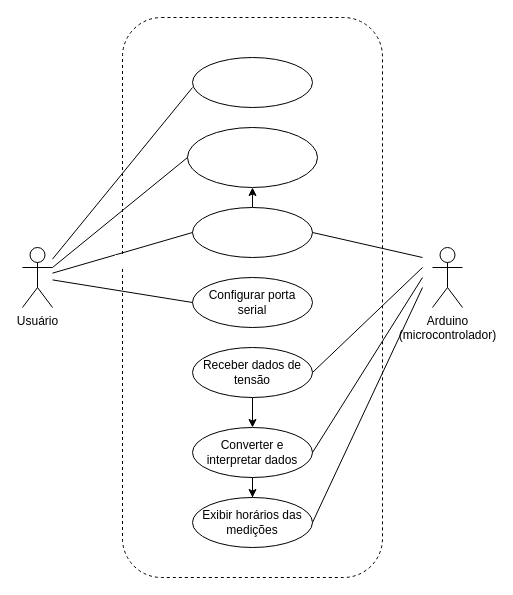
Some shapes in this 513 by 595 pixel diagram are drawn without their labels. Here are the shapes that lost their labels. From the top down, the box of each, then its label:
(192, 56, 312, 108): Iniciar monitoramento
(186, 126, 318, 188): Visualizar gráfico em tempo real
(192, 206, 312, 258): Exportar dados/gráficos
